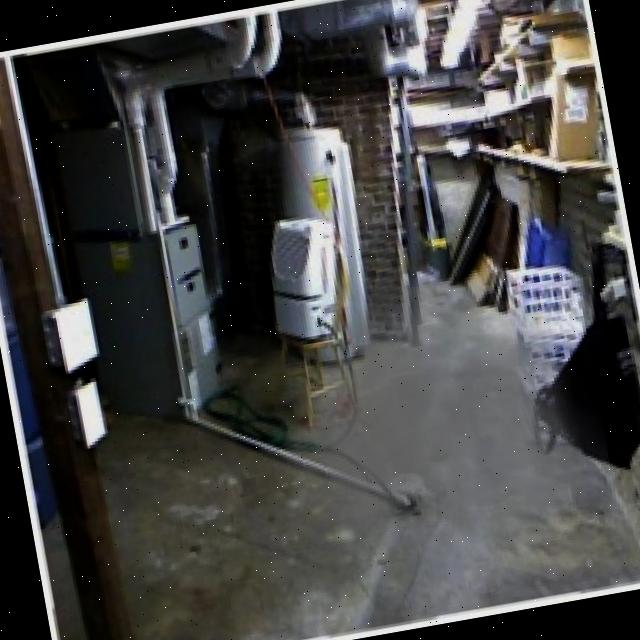smoke: (216, 225, 630, 640)
